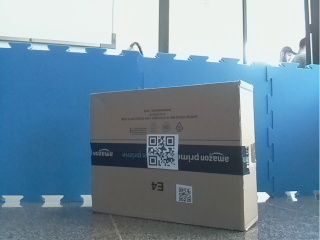caja: (83, 79, 262, 233)
